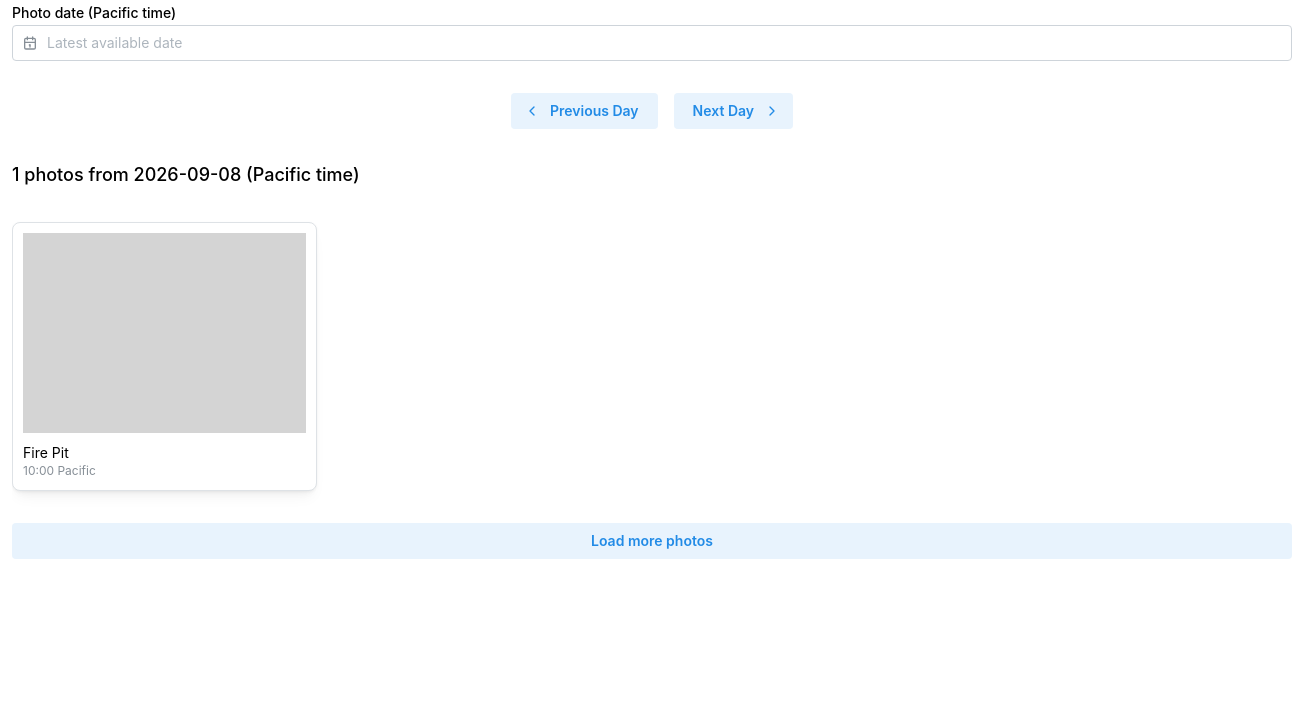
Photo gallery › navigates relative to the returned latest day and ignores stale page responses
Click the button "Load more photos" at (652, 541), box top-left (12, 523), bottom-right (1292, 559)
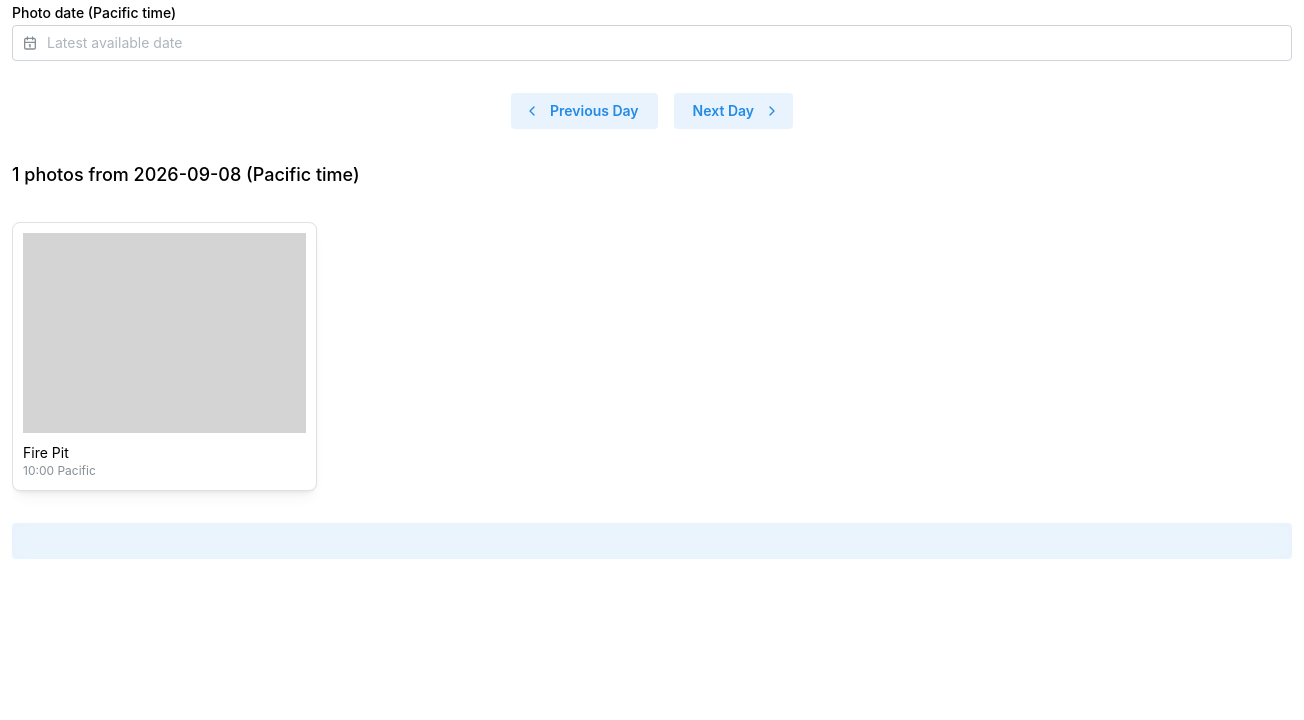
Click the button "Previous Day" at (584, 111), box top-left (511, 93), bottom-right (658, 129)
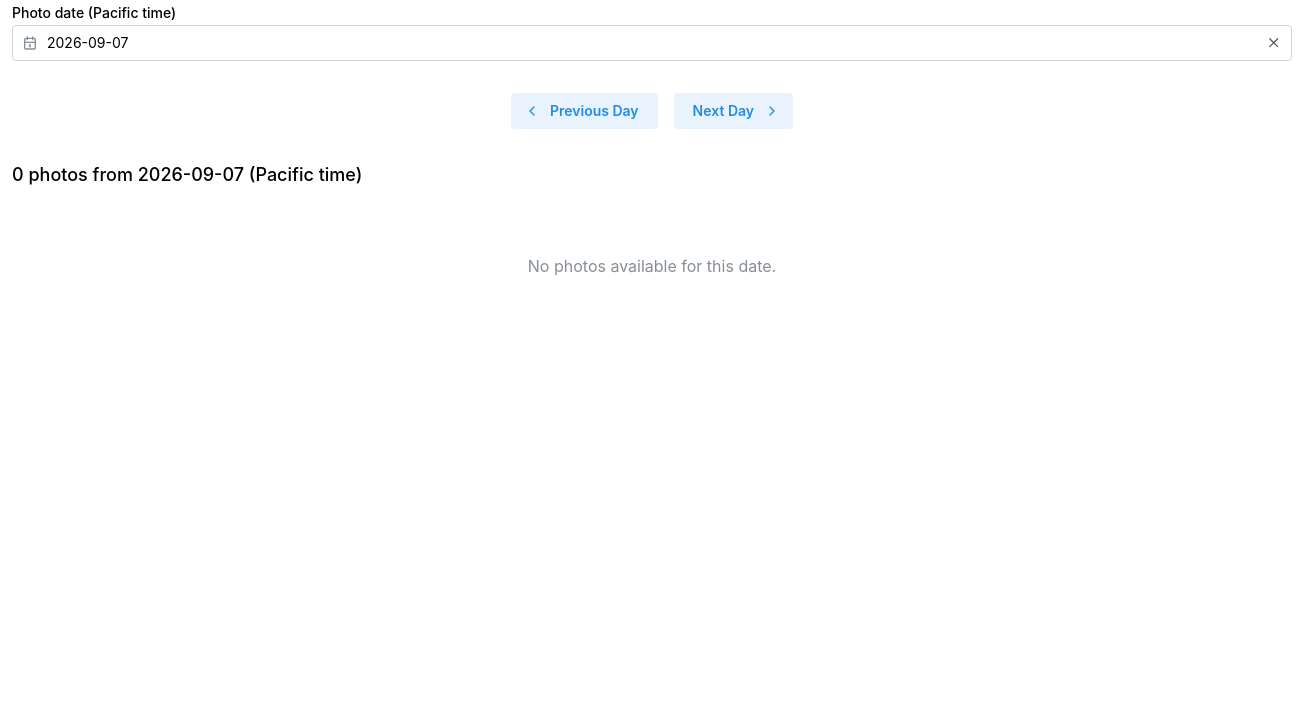
Expected: the text "No photos available for this date." is shown, top-left (528, 256), bottom-right (776, 276)
